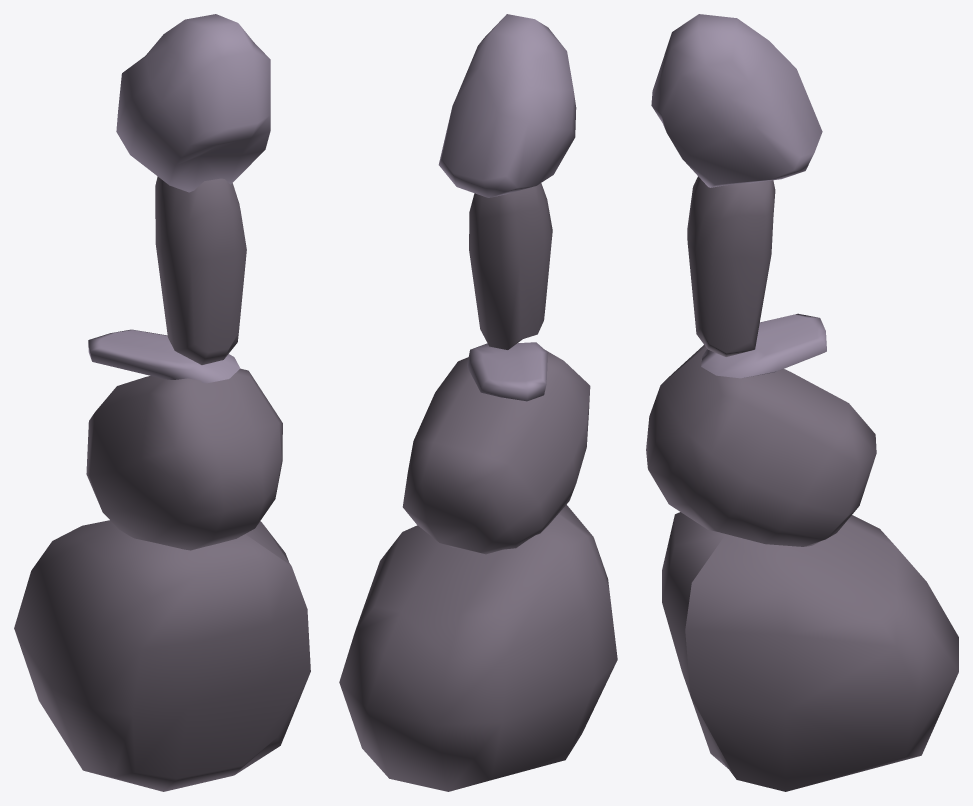
File: P_balanceRock_02_LD.fbx
3 renders of one model, left to right at view 1: azimuth 30°, elevation 25°; view 2: azimuth 150°, elevation 25°; view 3: azimuth 270°, elevation 25°, orthographic. The views are drawn at different scales.
Parts seen in each view (by area): view 1: P_balanceRock_02; view 2: P_balanceRock_02; view 3: P_balanceRock_02.
Part boxes in pixels (x1,y1,x2,y2): P_balanceRock_02: [14, 14, 310, 791]; P_balanceRock_02: [339, 14, 617, 791]; P_balanceRock_02: [646, 14, 958, 791].
Size of the model in its own units: 1.33 by 4.07 by 1.54.
1 material, 1 textured.
